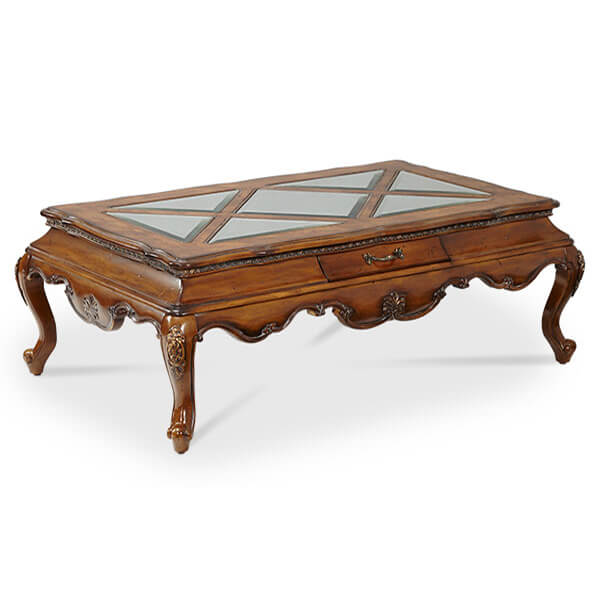Carving Table: (18, 172, 576, 454)
